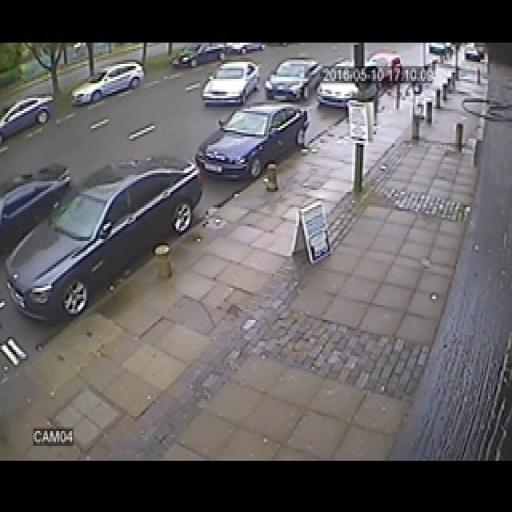Car: (26, 168, 196, 311), (198, 102, 308, 181), (1, 166, 69, 240), (72, 62, 144, 105), (0, 96, 53, 147), (202, 60, 259, 106), (266, 57, 324, 102), (320, 61, 374, 105), (172, 43, 226, 68), (366, 51, 402, 85), (224, 42, 266, 56)
Not Accident: (266, 57, 377, 107)
